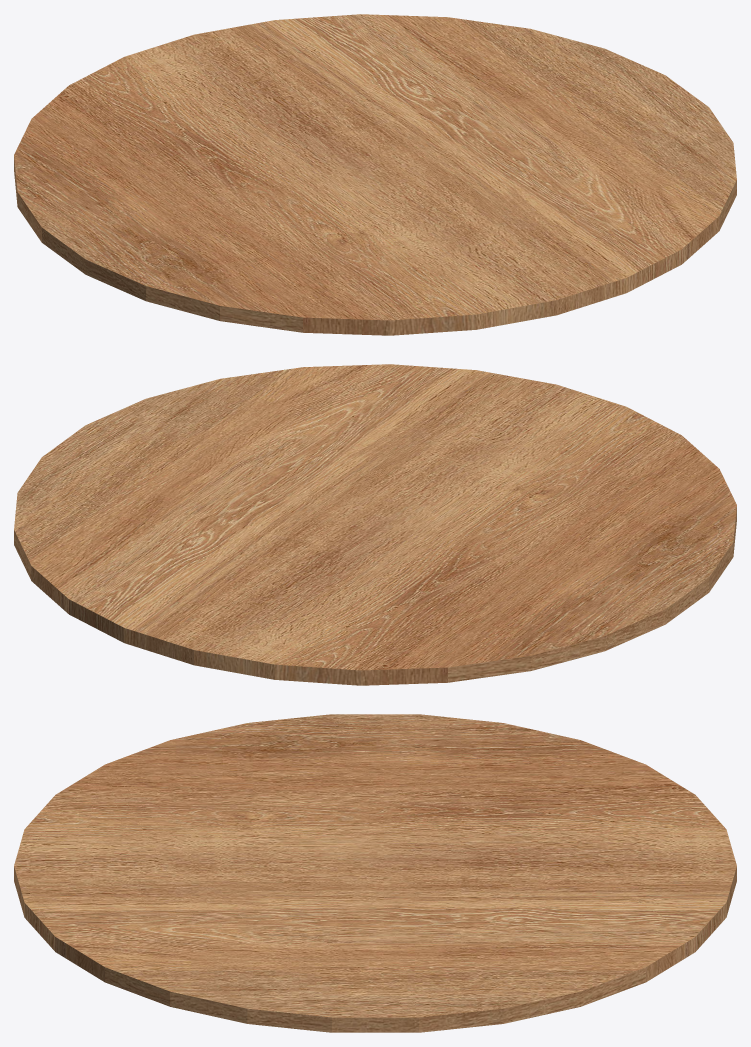
The model's file is 24275_deepcad.glb.
3 renders of one model, top to bottom at view 1: azimuth 30°, elevation 25°; view 2: azimuth 150°, elevation 25°; view 3: azimuth 270°, elevation 25°, orthographic.
Parts seen in each view (by area): view 1: test_cmd_24275_pred; view 2: test_cmd_24275_pred; view 3: test_cmd_24275_pred.
Boxes of the visible parts, left/top/right/bottom form: test_cmd_24275_pred: left=14, top=14, right=736, bottom=335; test_cmd_24275_pred: left=14, top=364, right=736, bottom=685; test_cmd_24275_pred: left=14, top=714, right=736, bottom=1032.
Bounding box in the file's own units: 0.9927 × 0.1047 × 1.
Materials: 1 (1 with a texture image).
